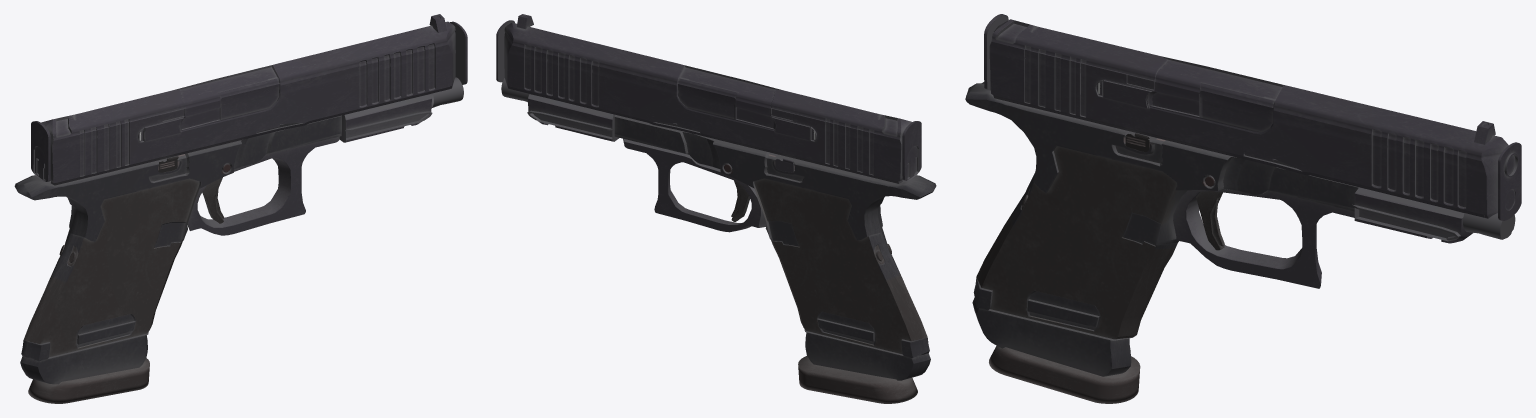
The model's file is glock.glb.glb.
The picture shows the model from 3 angles, left to right: view 1: azimuth 30°, elevation 25°; view 2: azimuth 150°, elevation 25°; view 3: azimuth 330°, elevation 25°; orthographic projection. The views are drawn at different scales.
Visible parts, largest first — view 1: Plane.004, Plane, Plane.006, Circle.003, Plane.008, Circle, Circle.001, Plane.010, Circle.002; view 2: Plane.004, Plane, Plane.006, Circle.003, Plane.008, Circle, Circle.001, Plane.010; view 3: Plane.004, Plane, Plane.006, Circle.003, Plane.008, Circle.001, Plane.010, Circle.002, Circle, Plane.009.
Boxes of the visible parts, <box> form: Plane.004: <box>14,115,341,384</box>; Plane: <box>41,21,455,185</box>; Plane.006: <box>187,136,339,235</box>; Circle.003: <box>28,358,149,403</box>; Plane.008: <box>339,94,431,142</box>; Circle: <box>31,121,50,181</box>; Circle.001: <box>450,21,467,84</box>; Plane.010: <box>202,177,224,223</box>; Circle.002: <box>430,77,463,107</box>; Plane.004: <box>614,114,936,380</box>; Plane: <box>504,22,911,183</box>; Plane.006: <box>623,138,766,232</box>; Circle.003: <box>798,356,917,403</box>; Plane.008: <box>528,94,619,141</box>; Circle: <box>902,121,921,180</box>; Circle.001: <box>496,20,514,82</box>; Plane.010: <box>731,180,750,221</box>; Plane.004: <box>965,82,1358,376</box>; Plane: <box>989,19,1508,218</box>; Plane.006: <box>1173,189,1354,288</box>; Circle.003: <box>989,345,1140,403</box>; Plane.008: <box>1354,187,1473,243</box>; Circle.001: <box>1498,142,1521,220</box>; Plane.010: <box>1196,191,1224,250</box>; Circle.002: <box>1463,213,1515,239</box>; Circle: <box>984,14,1008,90</box>; Plane.009: <box>1352,204,1460,240</box>.
Bounding box in the file's own units: 4.93 × 3.14 × 0.5324.
1 material, 1 textured.
